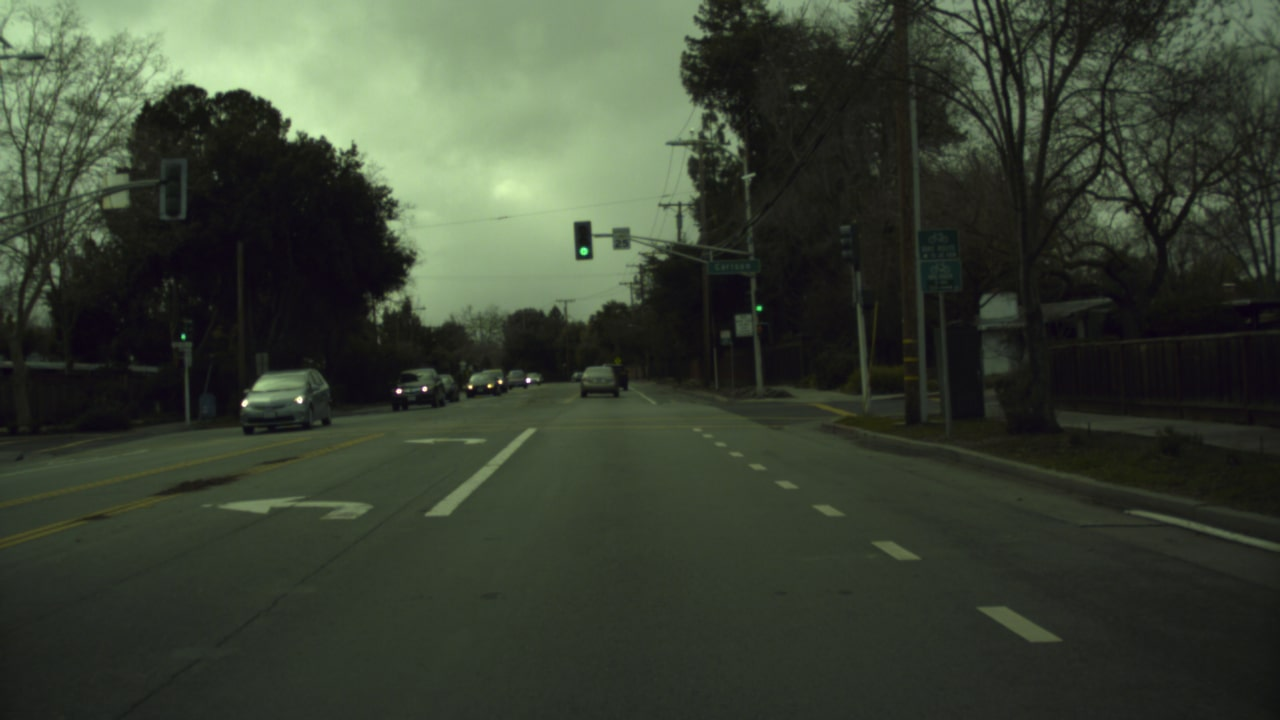signal: (571, 221, 594, 261), (751, 294, 767, 319), (173, 327, 191, 343)
